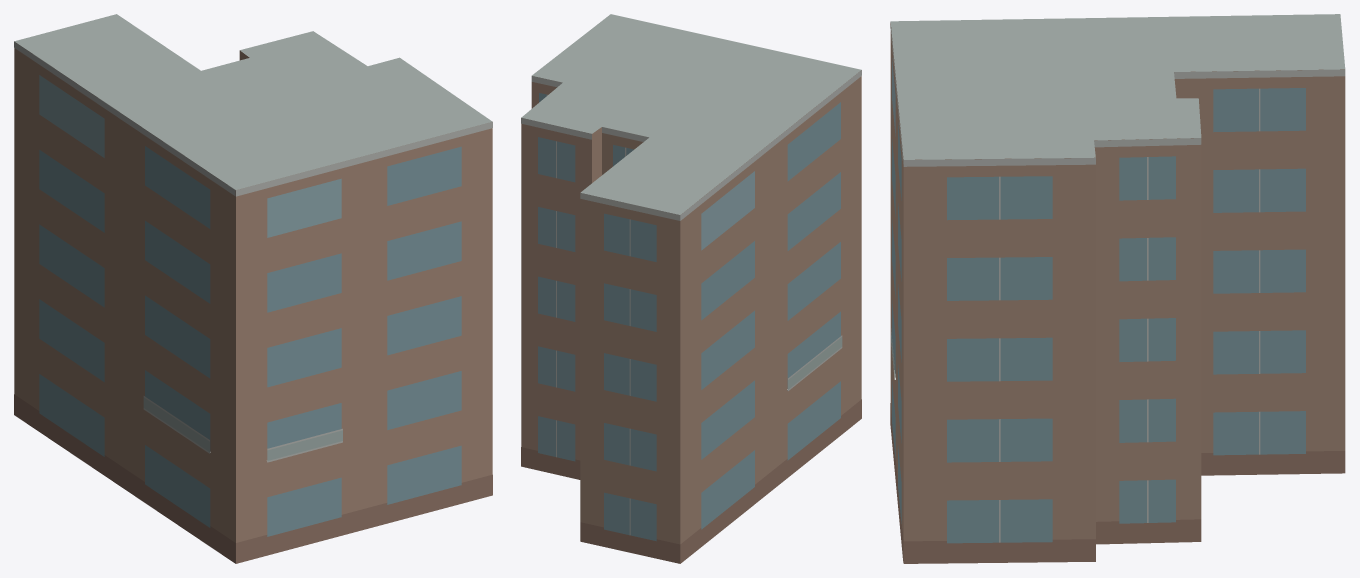
File: survey-upis-32560719.glb
The picture shows the model from 3 angles, left to right: view 1: azimuth 30°, elevation 25°; view 2: azimuth 150°, elevation 25°; view 3: azimuth 270°, elevation 25°; orthographic projection. The views are drawn at different scales.
Parts seen in each view (by area): view 1: survey-upis-32560719.tmp; view 2: survey-upis-32560719.tmp; view 3: survey-upis-32560719.tmp.
Part boxes in pixels (x1=…): survey-upis-32560719.tmp: x1=14, y1=14, x2=492, y2=563; survey-upis-32560719.tmp: x1=521, y1=14, x2=861, y2=563; survey-upis-32560719.tmp: x1=890, y1=14, x2=1345, y2=563.
Size of the model in its own units: 11.01 by 14.2 by 14.5.
